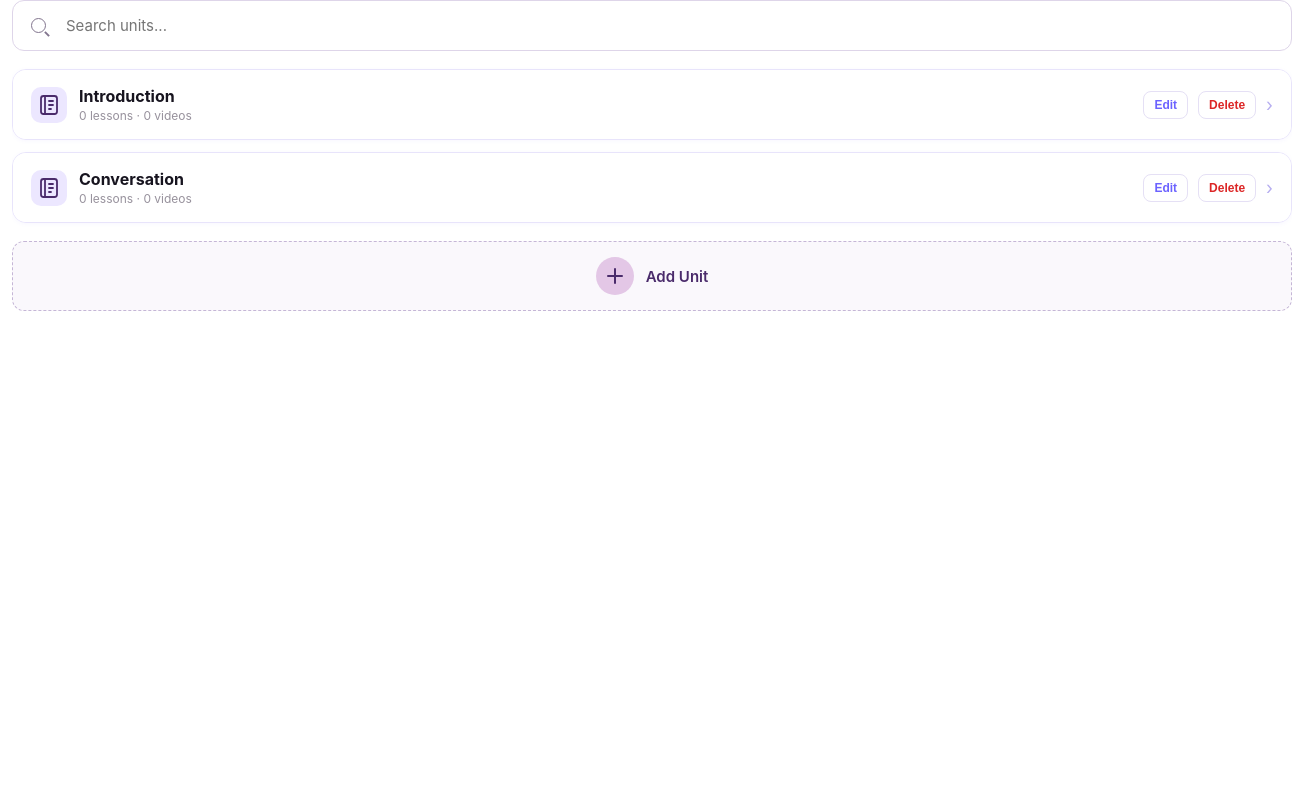
Test: new lessons remain after closing and reopening their unit
Click the button "Introduction 0 lessons · 0 videos".
click(49, 104)  # box [31,86,1131,123]
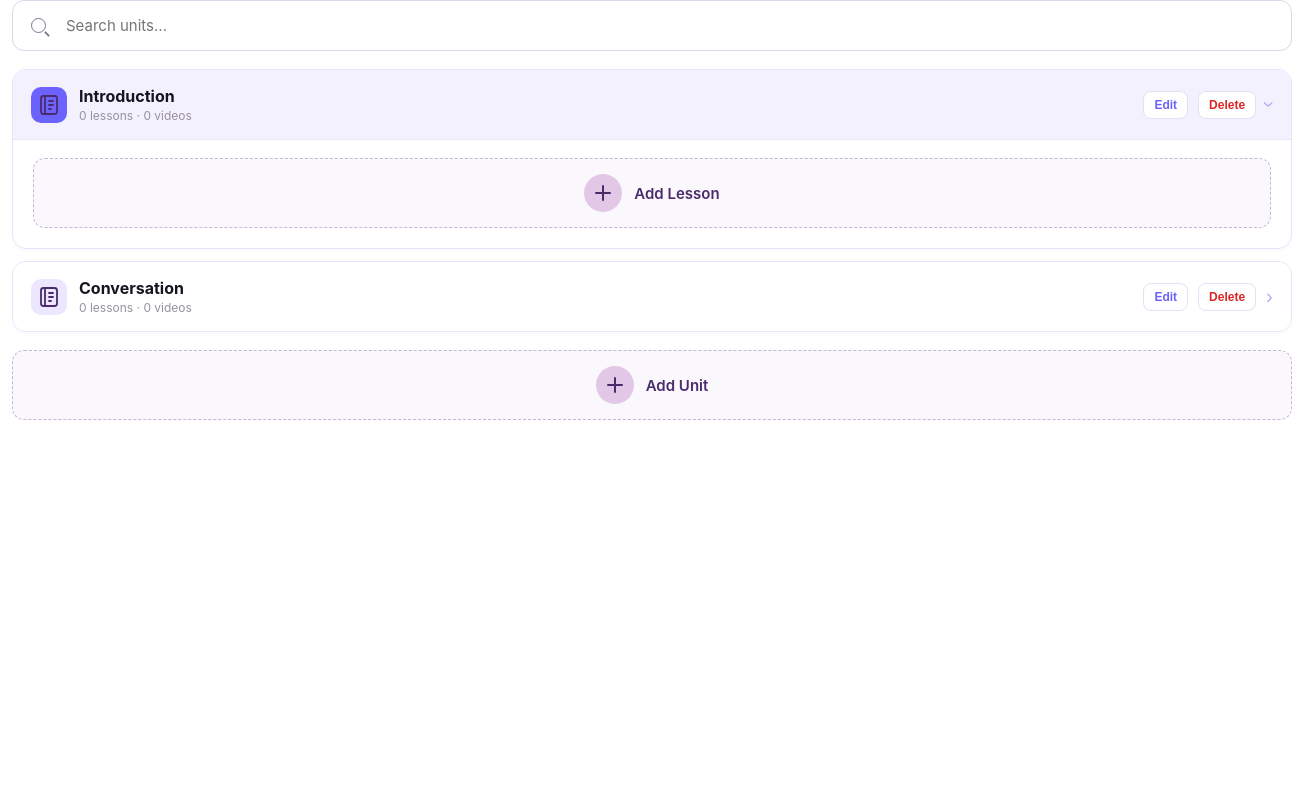
Click the button "Add Lesson".
click(652, 193)  # box [33,158,1271,228]
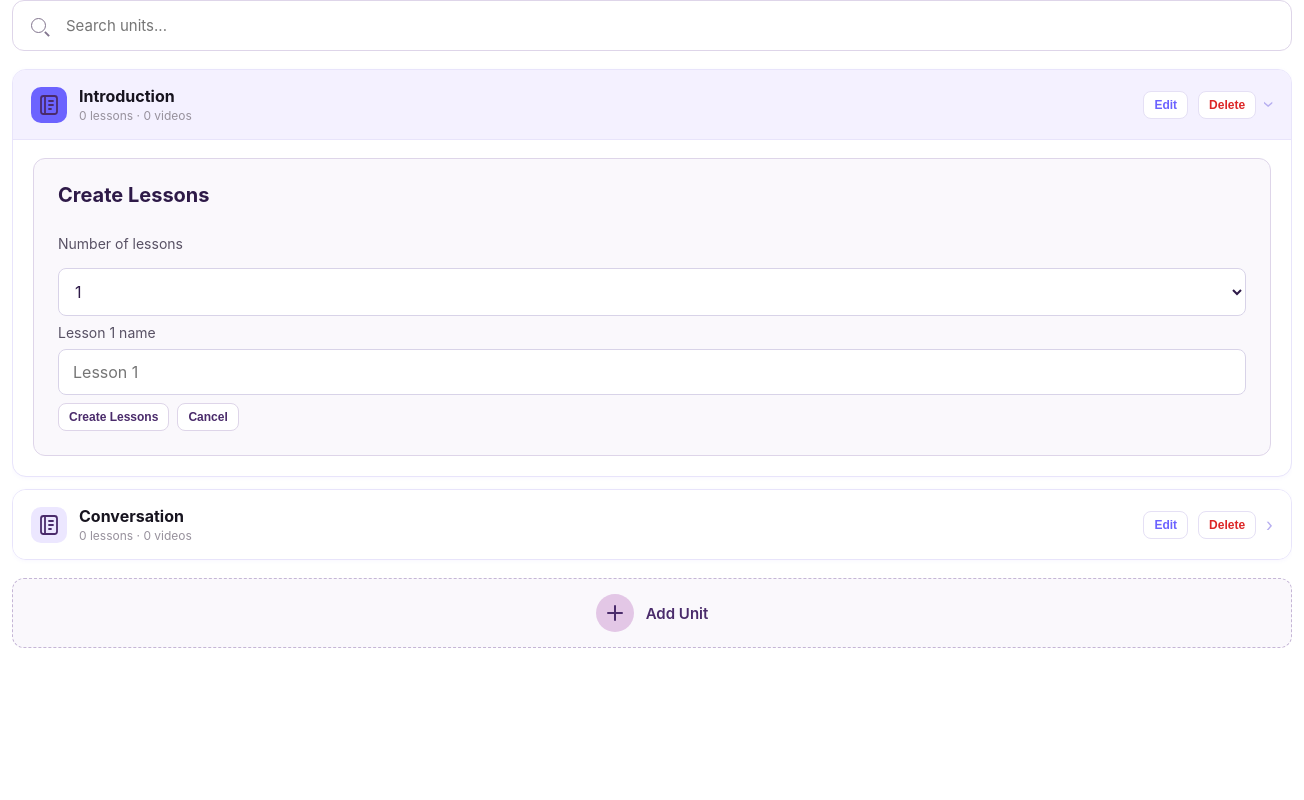
Click the button "Create Lessons".
click(114, 417)  # box [58,403,169,431]
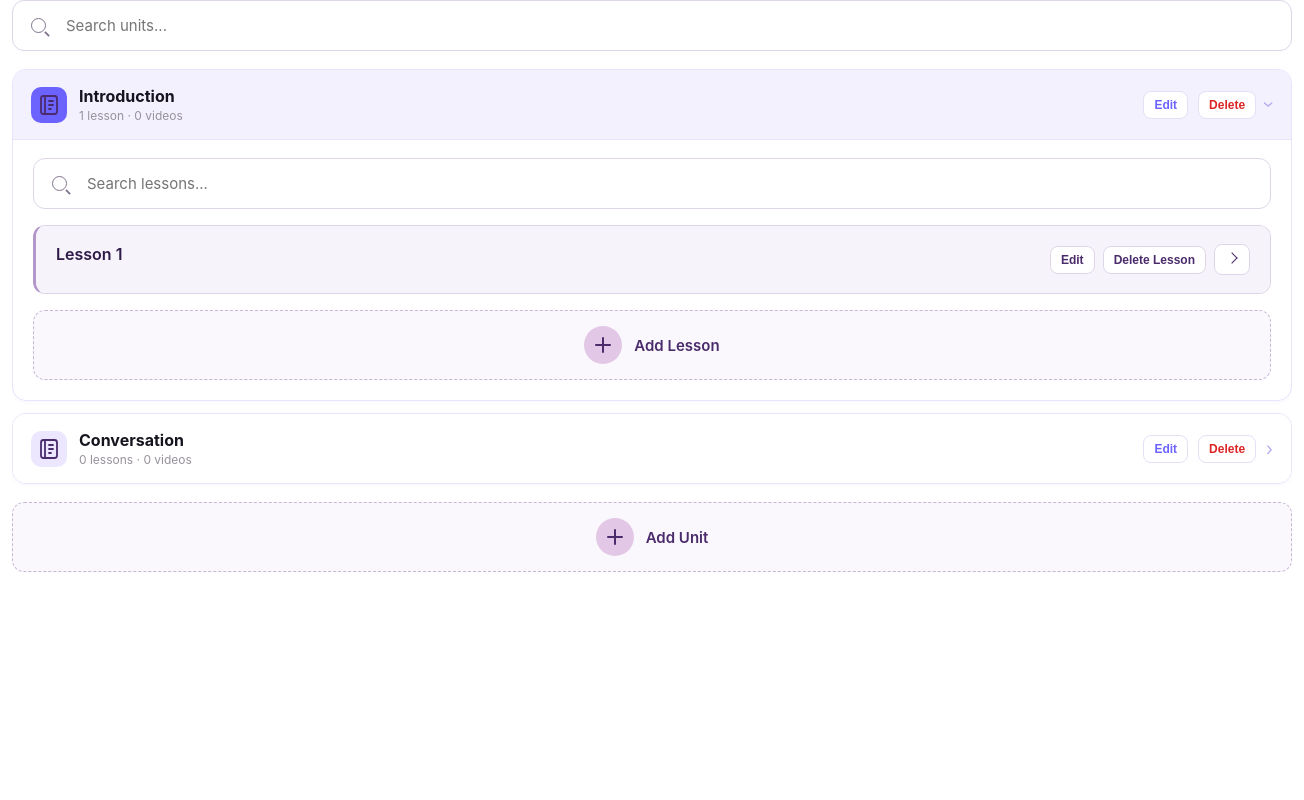
Expected: the text "Lesson 1" is shown, [56,244,122,264]
Click the button "Introduction 1 lesson · 0 videos".
click(49, 104)  # box [31,86,1131,123]
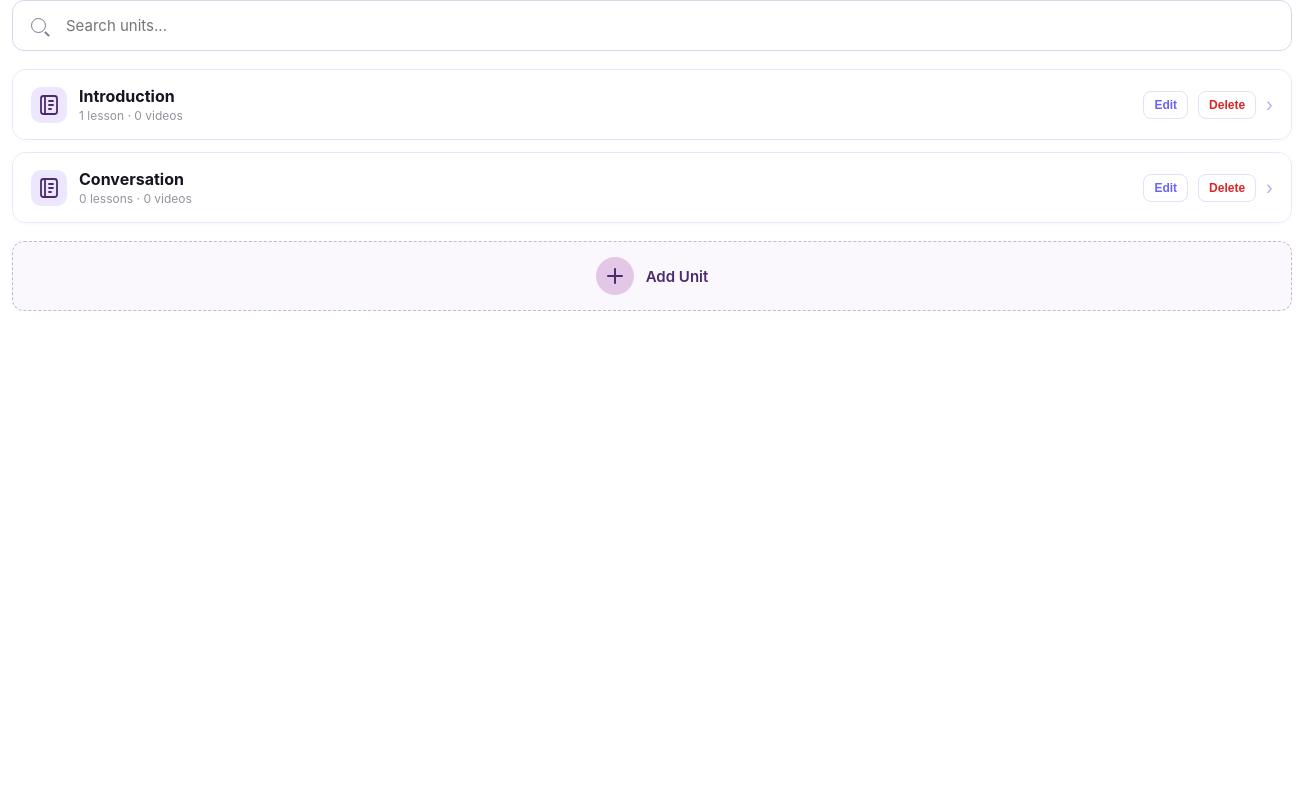
Click the button "Introduction 1 lesson · 0 videos".
click(49, 104)  # box [31,86,1131,123]
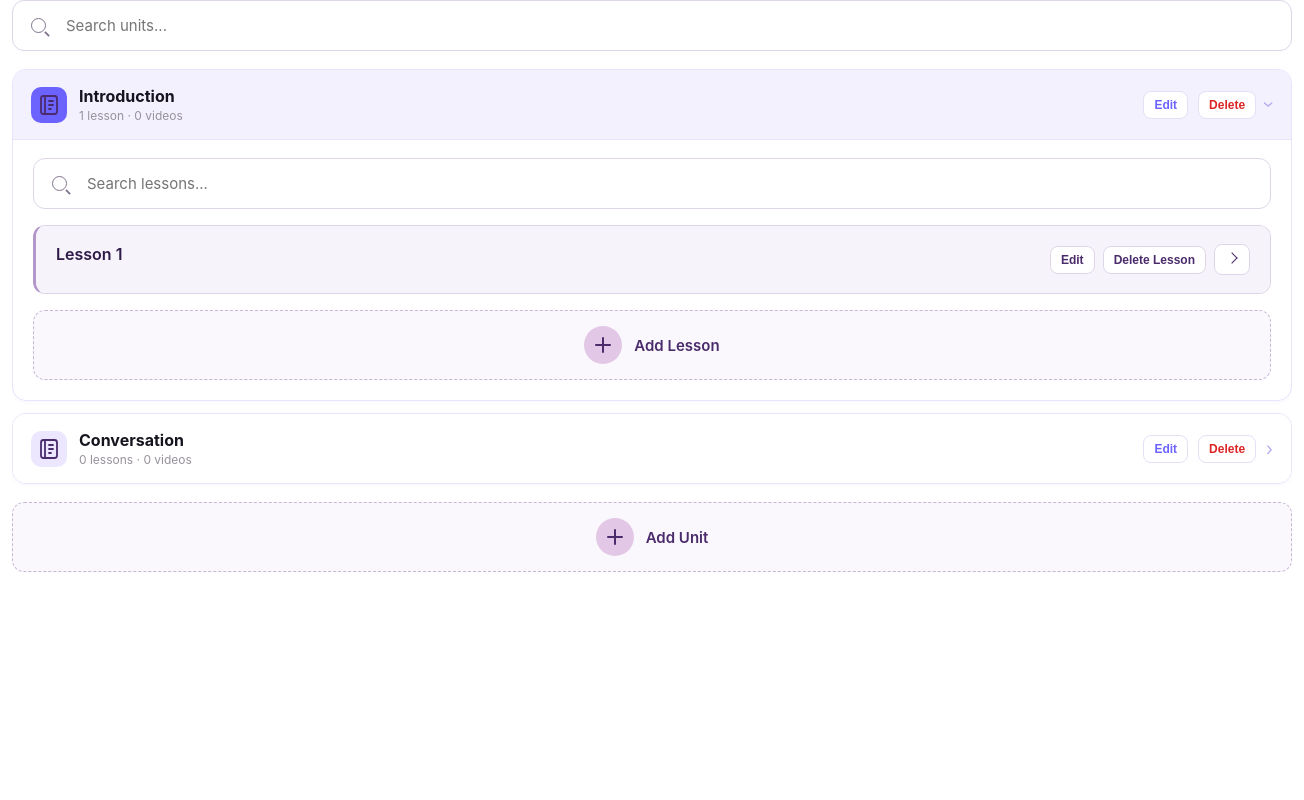
Expected: the text "Lesson 1" is shown, [56,244,122,264]
